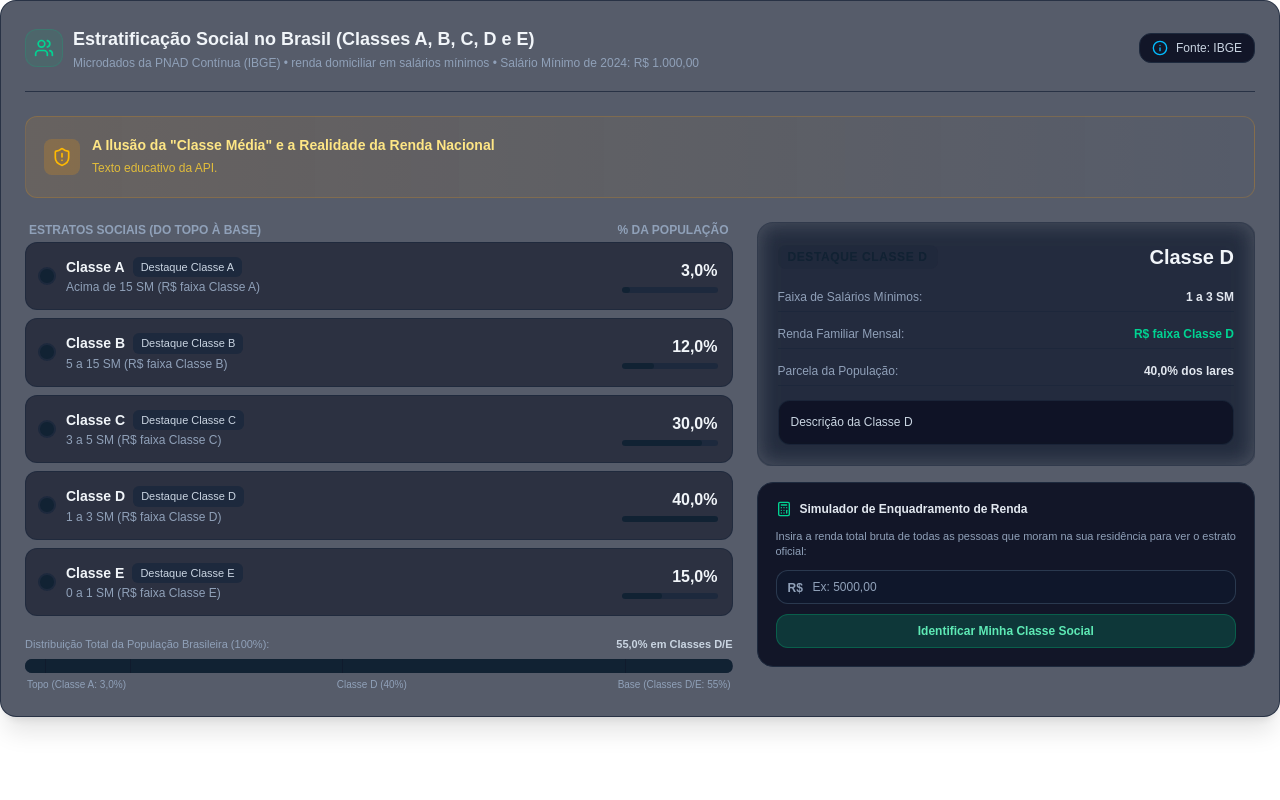
Test: SocialClassesExplainer › seleciona uma classe pela pirâmide e pela barra agregada
The width and height of the screenshot is (1280, 800).
Expected: the text "Descrição da Classe D" is shown, [778,400,1234,445]
Click the button "Classe B" at (96, 343), box [25,318,732,386]
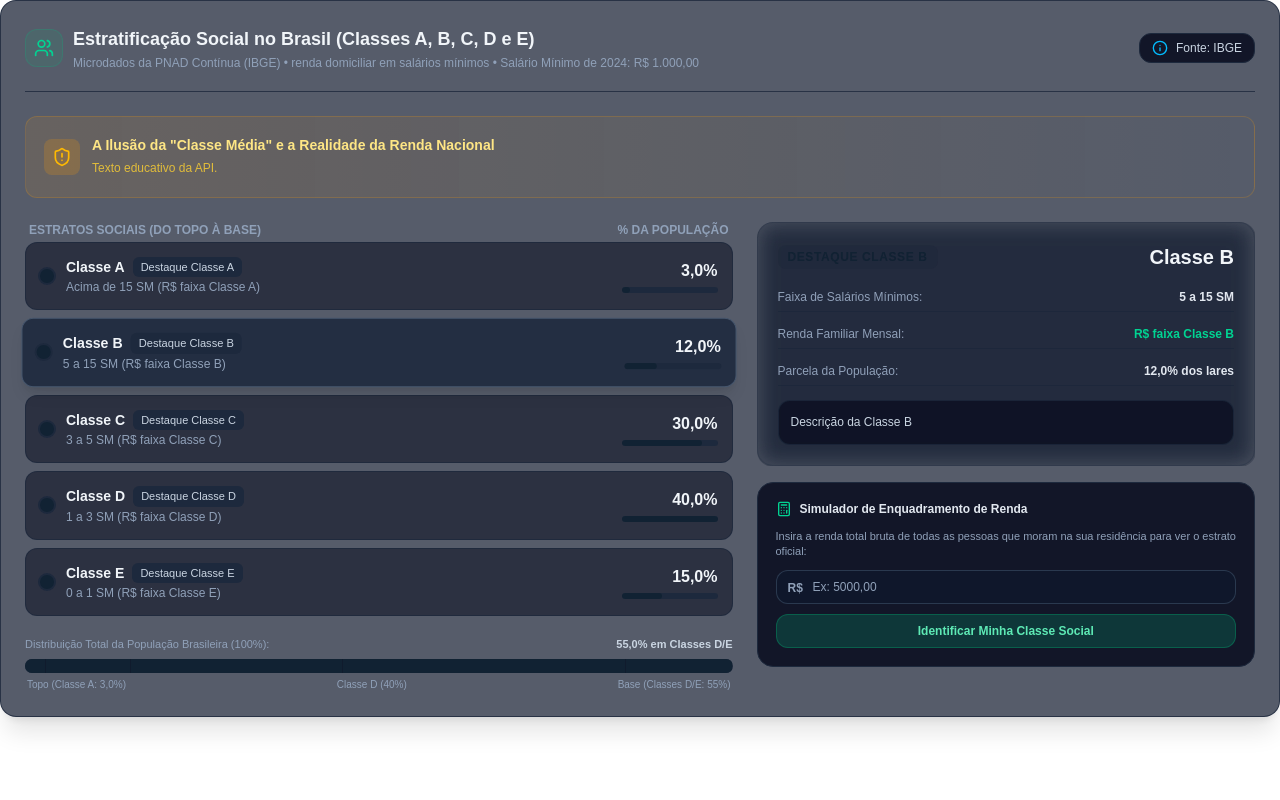
Result: the text "Descrição da Classe B" is shown at [778,400,1234,445]
Click the button named "Classe A: 3,0% da população" at (36, 666), box [25,658,46,672]
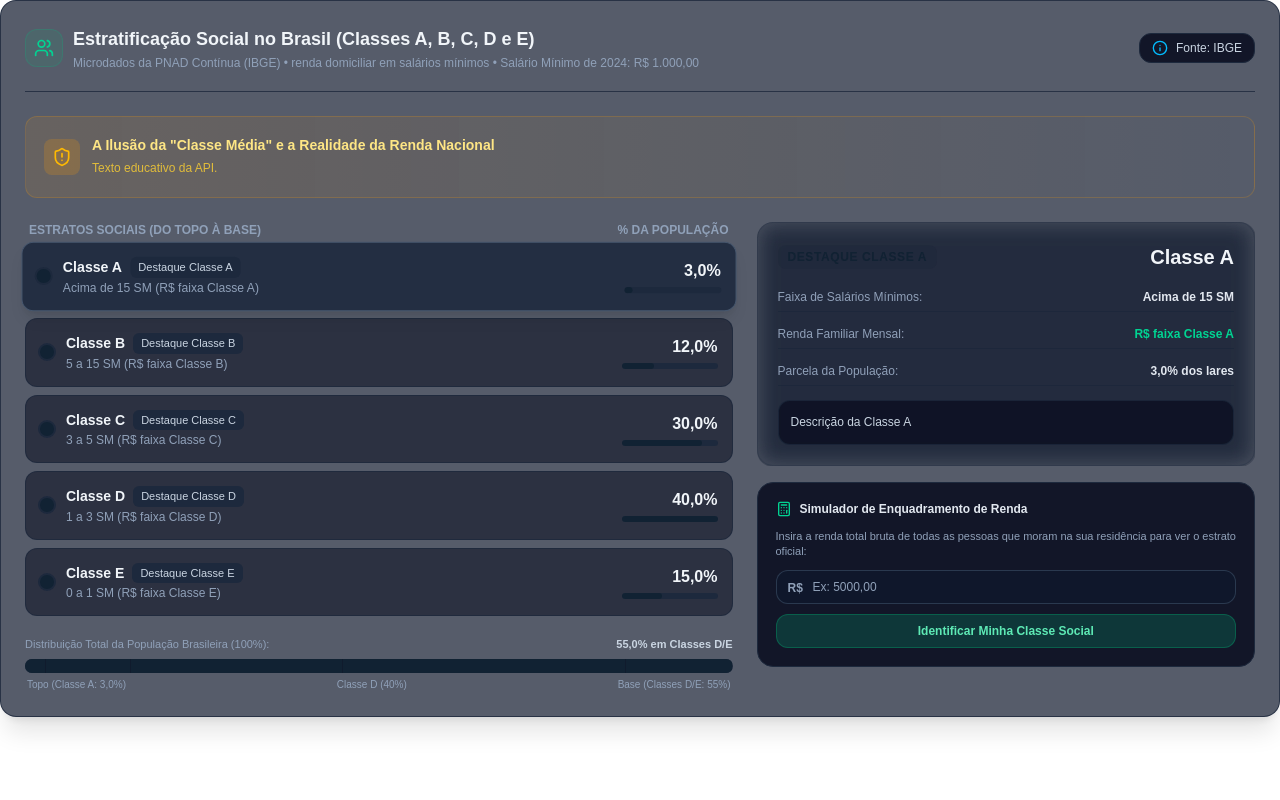
Result: the text "Descrição da Classe A" is shown at [778,400,1234,445]
